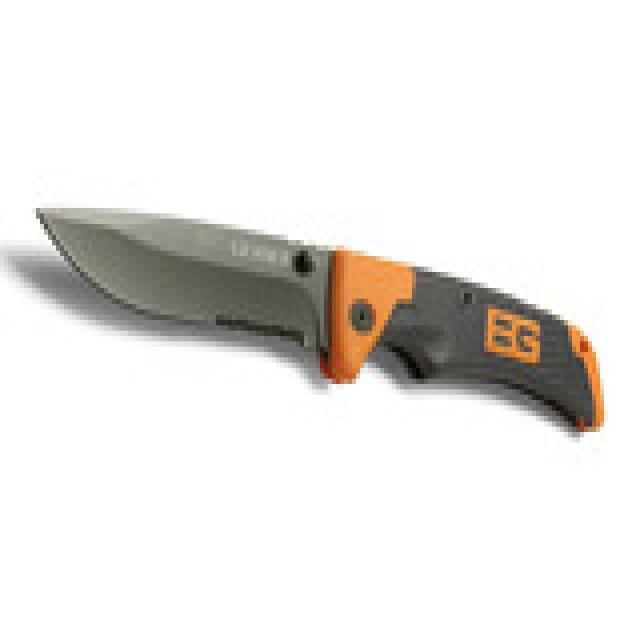Knife: (27, 178, 610, 444)
